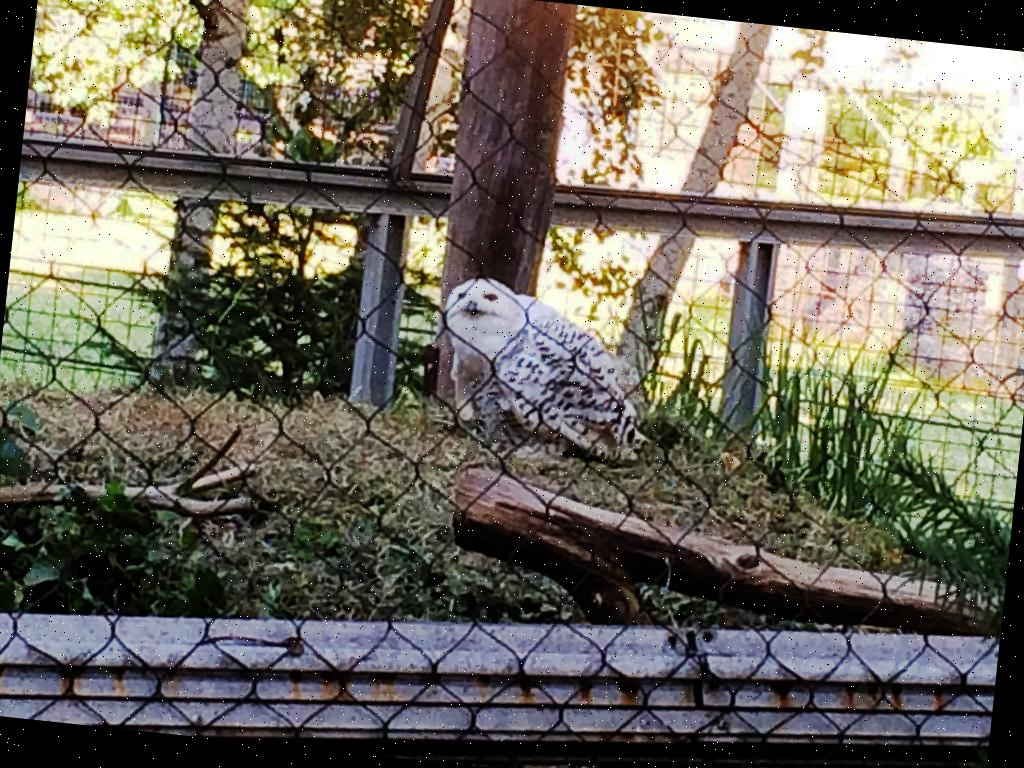Owl: (430, 274, 655, 463)
